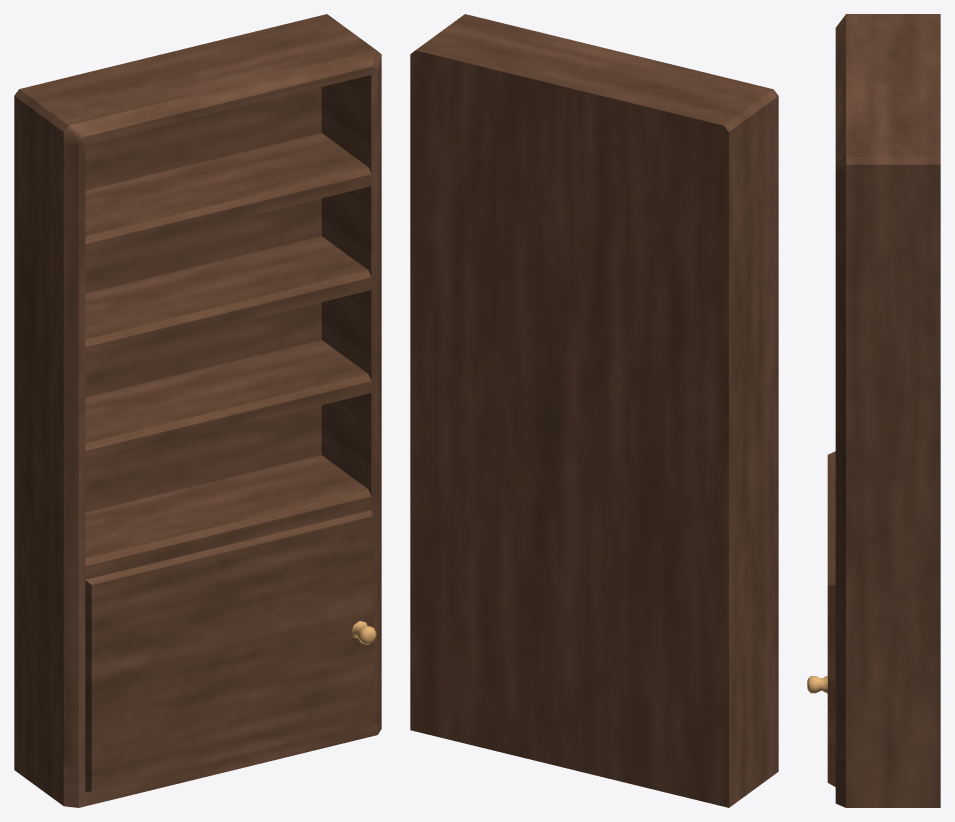
File: Shelves.fbx
3 renders of one model, left to right at view 1: azimuth 30°, elevation 25°; view 2: azimuth 150°, elevation 25°; view 3: azimuth 270°, elevation 25°, orthographic. The views are drawn at different scales.
Visible parts, largest first — view 1: Shelf; view 2: Shelf; view 3: Shelf.
Part boxes in pixels (<box>): Shelf: <box>14,14,381,807</box>; Shelf: <box>410,14,778,807</box>; Shelf: <box>807,14,940,807</box>.
Bounding box in the file's own units: 100 × 204 × 38.08.
Materials: 1 (1 with a texture image).
